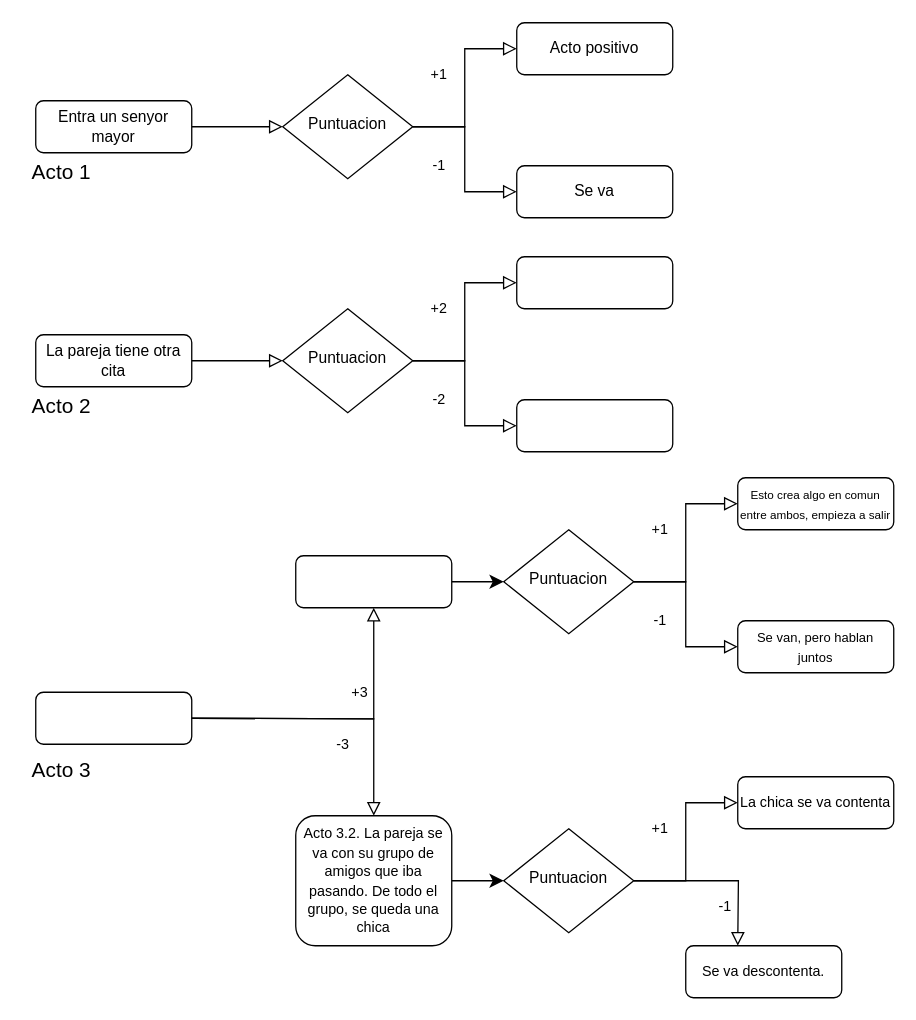
This 916x1020 diagram has some shape labels left out. The shapes that lost their labels are listed below. From the top down, each one's centre as x and y in pixels, then its label:
At point (594, 282): "Desbloquea acto 3.1".
At point (594, 425): "Desbloquea acto 3.2".
At point (373, 581): "Acto 3.1. Se quedan".
At point (113, 717): "De casualidad llegan sus amigos".
